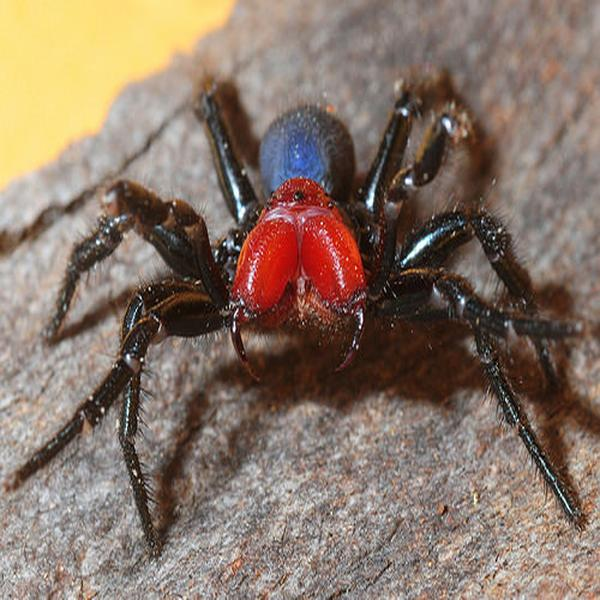Red Headed Mouse Spider: (55, 89, 579, 524)
